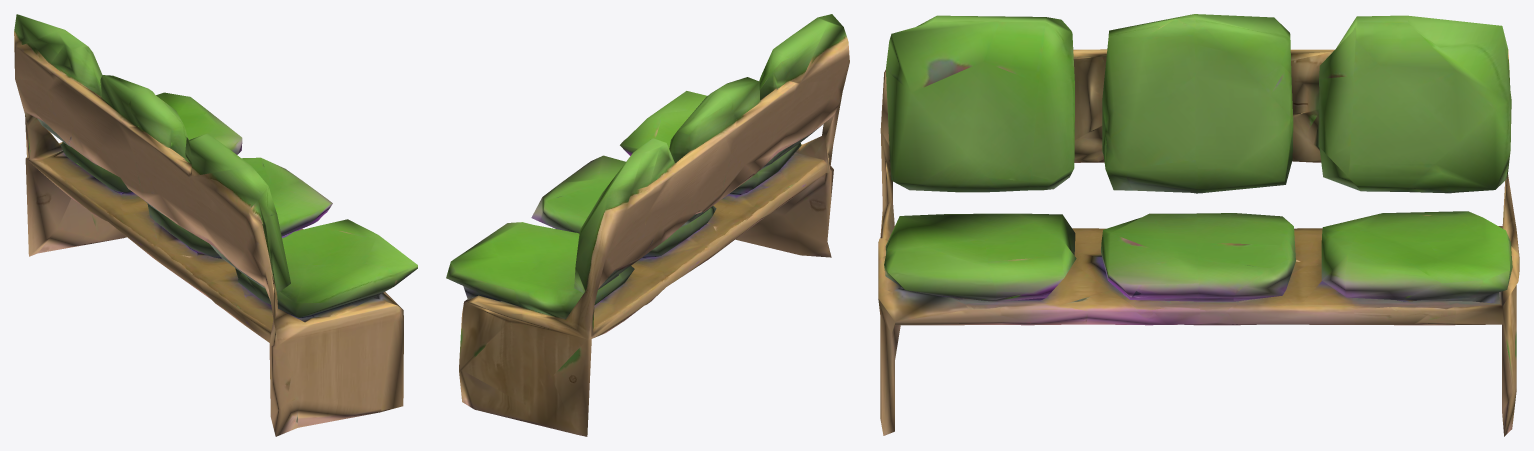
The model's file is bench.glb.
3 views of the same model, side by side, from view 1: azimuth 30°, elevation 25°; view 2: azimuth 150°, elevation 25°; view 3: azimuth 270°, elevation 25° (orthographic). The views are drawn at different scales.
Parts seen in each view (by area): view 1: tripo_node_f9bc9909-68ad-447b-b1b4-200da42df533; view 2: tripo_node_f9bc9909-68ad-447b-b1b4-200da42df533; view 3: tripo_node_f9bc9909-68ad-447b-b1b4-200da42df533.
Boxes of the visible parts, <box> form: tripo_node_f9bc9909-68ad-447b-b1b4-200da42df533: <box>14,14,417,436</box>; tripo_node_f9bc9909-68ad-447b-b1b4-200da42df533: <box>446,14,849,436</box>; tripo_node_f9bc9909-68ad-447b-b1b4-200da42df533: <box>878,14,1519,436</box>.
Bounding box in the file's own units: 0.4011 × 0.563 × 0.9776.
Materials: 1 (1 with a texture image).
